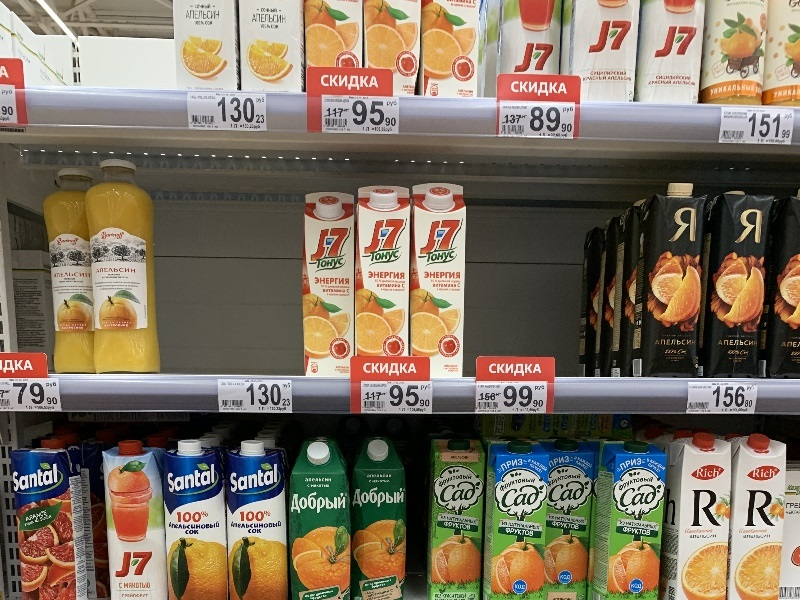juice: (629, 180, 716, 384), (692, 184, 783, 378), (8, 434, 94, 597), (410, 178, 477, 382), (300, 185, 369, 380), (153, 435, 235, 597), (350, 180, 421, 366), (97, 437, 174, 598), (218, 440, 294, 598), (663, 430, 734, 599), (280, 439, 355, 597), (594, 439, 665, 597), (481, 436, 550, 597), (424, 432, 485, 599), (347, 437, 408, 598), (727, 434, 787, 596)
